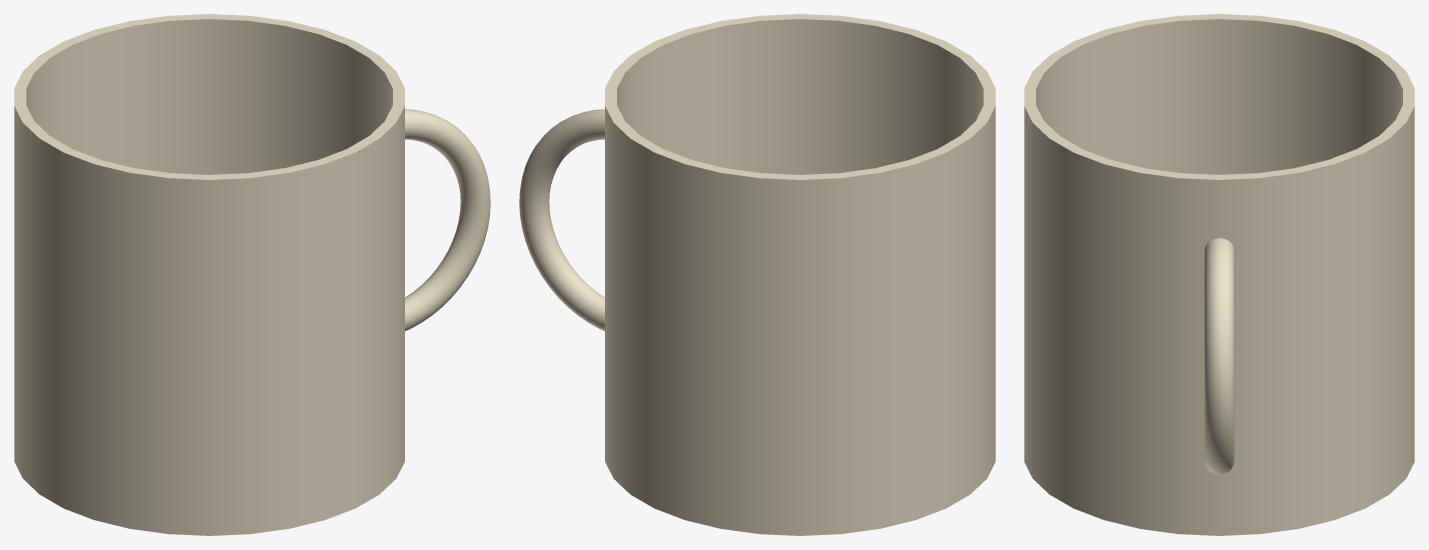
Rendered from Cup 1.fbx.
3 renders of one model, left to right at view 1: azimuth 30°, elevation 25°; view 2: azimuth 150°, elevation 25°; view 3: azimuth 270°, elevation 25°, orthographic.
Parts seen in each view (by area): view 1: Cup1_Main; view 2: Cup1_Main; view 3: Cup1_Main.
Part boxes in pixels (bbox=[...]): Cup1_Main: bbox=[14, 14, 490, 535]; Cup1_Main: bbox=[519, 14, 995, 535]; Cup1_Main: bbox=[1024, 14, 1414, 535].
Size of the model in its own units: 2.64 by 2 by 1.99.
1 material, 1 textured.
